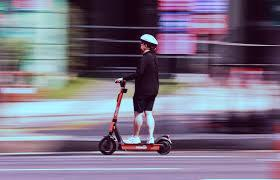helmet: (99, 33, 173, 156)
